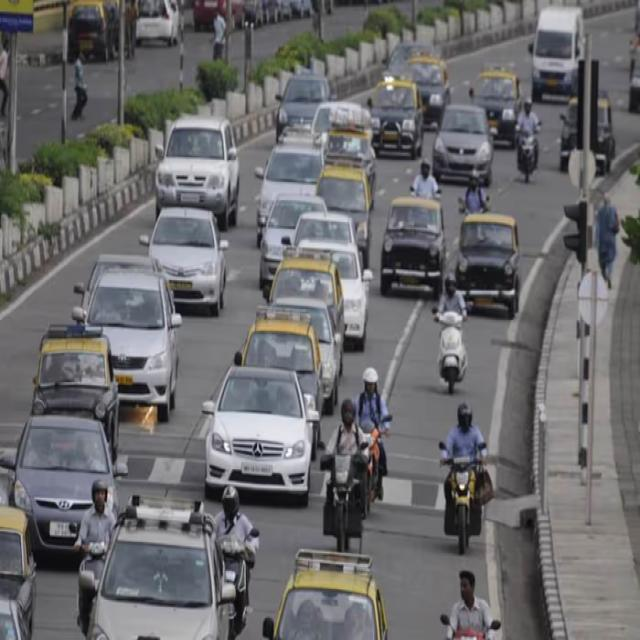Vehicles: (86, 494, 252, 640), (78, 256, 192, 421), (262, 183, 382, 334), (5, 407, 128, 549), (212, 367, 321, 513), (242, 310, 344, 443), (262, 550, 396, 640), (28, 326, 128, 446), (142, 204, 234, 322), (150, 102, 237, 214), (447, 206, 528, 326), (375, 194, 455, 312), (272, 292, 351, 402), (271, 256, 357, 350), (419, 93, 495, 186), (525, 0, 591, 98), (438, 448, 488, 574), (468, 59, 531, 151), (386, 35, 450, 120), (262, 70, 336, 139), (360, 73, 419, 158), (323, 450, 363, 565), (426, 305, 474, 395), (355, 420, 385, 497), (514, 127, 540, 196)
